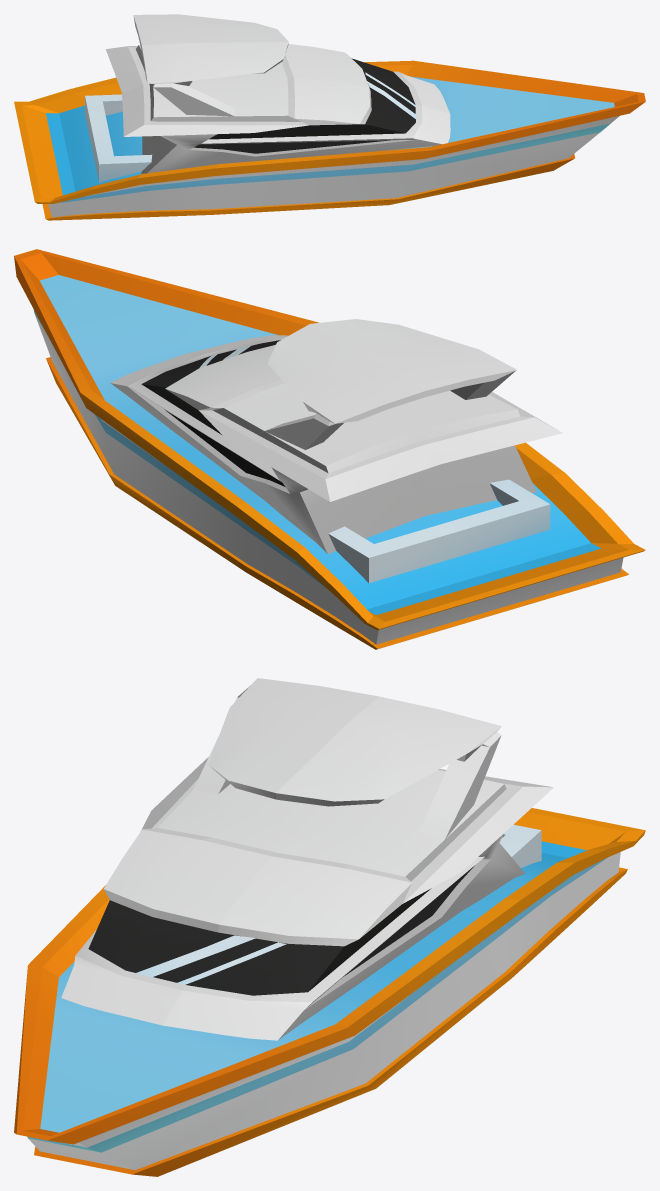
The model's file is SHIP_LV3.fbx.
3 renders of one model, top to bottom at view 1: azimuth 30°, elevation 25°; view 2: azimuth 150°, elevation 25°; view 3: azimuth 270°, elevation 25°, orthographic. The views are drawn at different scales.
Parts seen in each view (by area): view 1: SHIP_LV3; view 2: SHIP_LV3; view 3: SHIP_LV3.
Boxes of the visible parts, bbox=[...] form: SHIP_LV3: bbox=[14, 14, 645, 220]; SHIP_LV3: bbox=[14, 249, 645, 649]; SHIP_LV3: bbox=[14, 678, 645, 1176].
Bounding box in the file's own units: 19.19 × 4.32 × 11.85.
